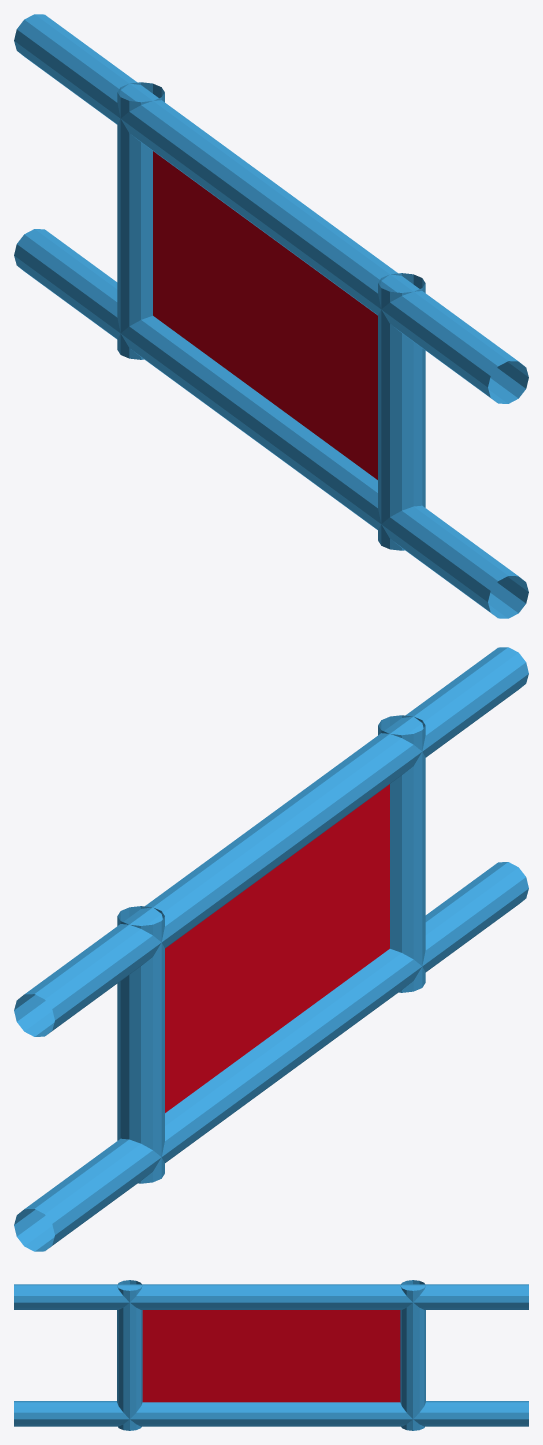
File: Panel.fbx
3 renders of one model, top to bottom at view 1: azimuth 30°, elevation 25°; view 2: azimuth 150°, elevation 25°; view 3: azimuth 270°, elevation 25°, orthographic. The views are drawn at different scales.
Parts seen in each view (by area): view 1: 平面, ベジエカーブ, ベジエカーブ.001, ベジエカーブ.003, ベジエカーブ.002; view 2: 平面, ベジエカーブ, ベジエカーブ.001, ベジエカーブ.002, ベジエカーブ.003; view 3: 平面, ベジエカーブ, ベジエカーブ.001, ベジエカーブ.002, ベジエカーブ.003.
Part boxes in pixels (x1,y1,x2,y2): 平面: [153, 151, 377, 479]; ベジエカーブ: [14, 14, 528, 403]; ベジエカーブ.001: [14, 229, 528, 618]; ベジエカーブ.003: [378, 273, 425, 550]; ベジエカーブ.002: [117, 82, 164, 359]; 平面: [165, 784, 389, 1112]; ベジエカーブ: [14, 647, 528, 1036]; ベジエカーブ.001: [14, 862, 528, 1251]; ベジエカーブ.002: [117, 906, 164, 1183]; ベジエカーブ.003: [378, 715, 425, 992]; 平面: [142, 1310, 400, 1402]; ベジエカーブ: [14, 1284, 528, 1309]; ベジエカーブ.001: [14, 1401, 528, 1426]; ベジエカーブ.002: [400, 1280, 425, 1430]; ベジエカーブ.003: [117, 1280, 142, 1430].
Size of the model in its own units: 40 by 240 by 800.
